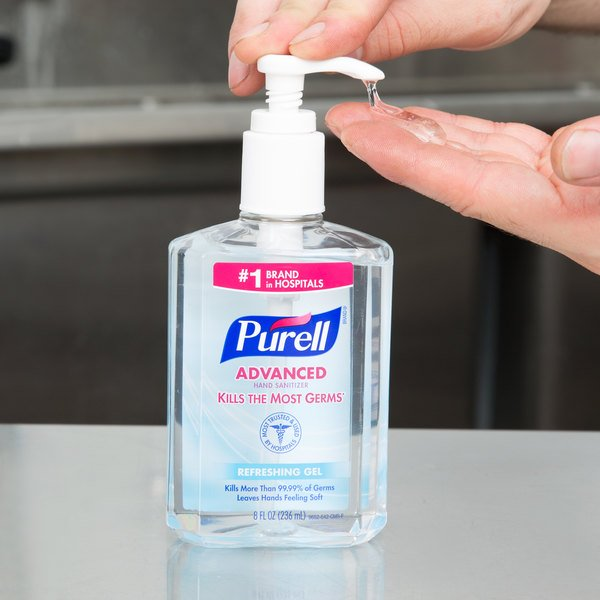Sanitizer: (161, 39, 395, 553)
